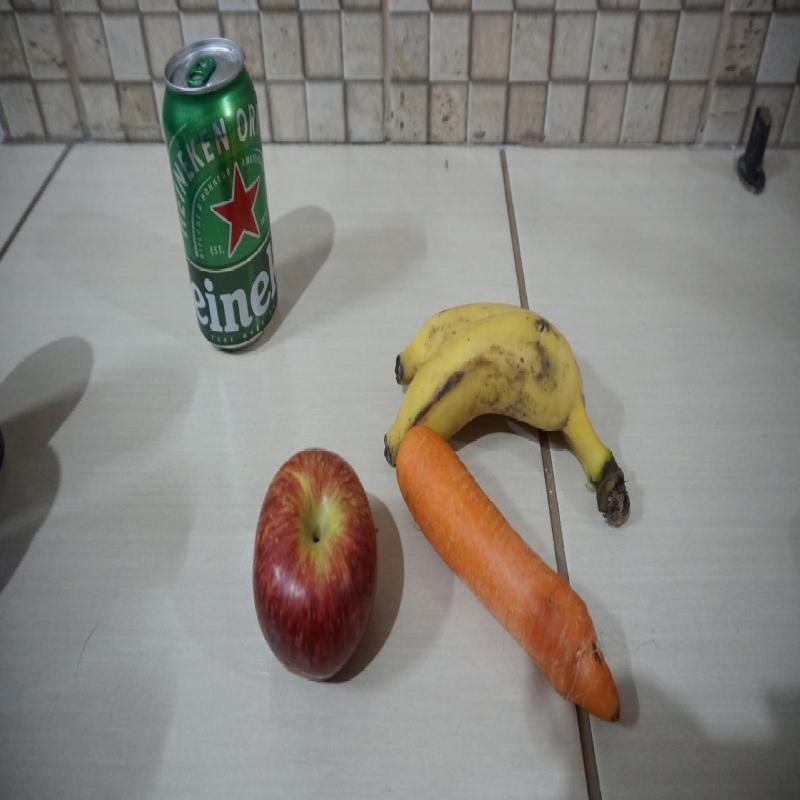Apple: (252, 444, 378, 684)
Banana: (383, 305, 585, 465)
Beer can: (163, 38, 280, 349)
Carrot: (395, 427, 620, 722)
